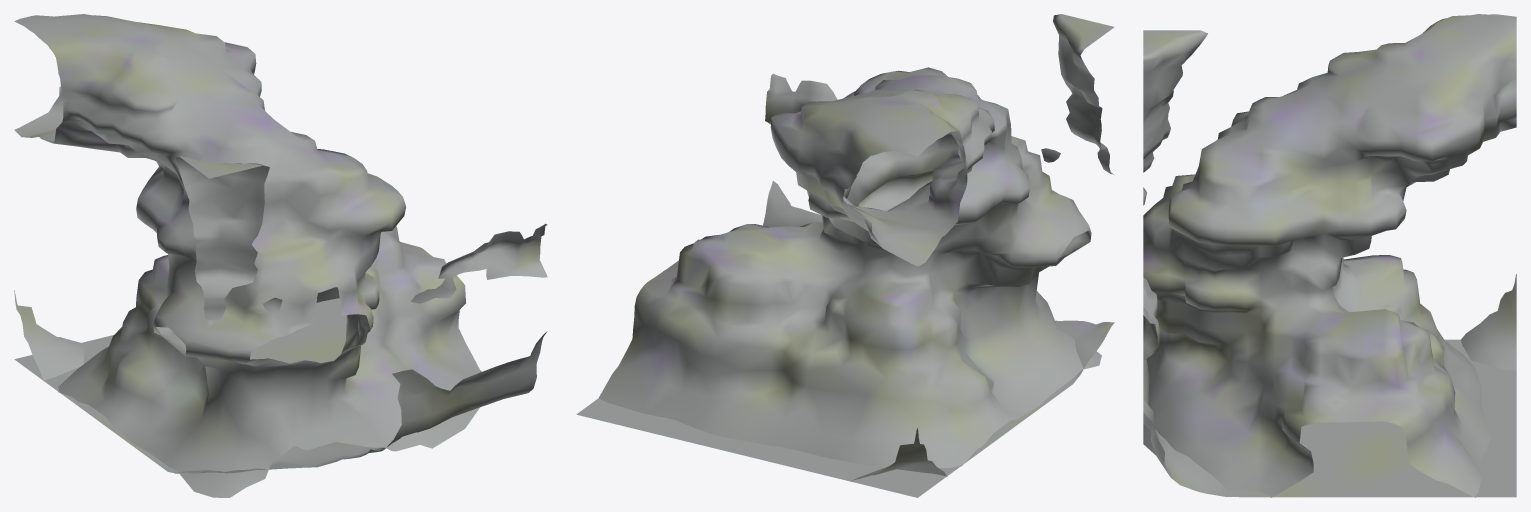
The picture shows the model from 3 angles, left to right: view 1: azimuth 30°, elevation 25°; view 2: azimuth 150°, elevation 25°; view 3: azimuth 270°, elevation 25°; orthographic projection. The views are drawn at different scales.
Visible parts, largest first — view 1: G:\FFXIV-MapTools\exports\y6f2\bg\ex5\02_ykt_y6\fld\y6f2\bgp (×4); view 2: G:\FFXIV-MapTools\exports\y6f2\bg\ex5\02_ykt_y6\fld\y6f2\bgp (×4); view 3: G:\FFXIV-MapTools\exports\y6f2\bg\ex5\02_ykt_y6\fld\y6f2\bgp (×4).
Part boxes in pixels (left/top/right/bottom): G:\FFXIV-MapTools\exports\y6f2\bg\ex5\02_ykt_y6\fld\y6f2\bgp (×4): left=14, top=14, right=547, bottom=497; G:\FFXIV-MapTools\exports\y6f2\bg\ex5\02_ykt_y6\fld\y6f2\bgp (×4): left=576, top=14, right=1114, bottom=497; G:\FFXIV-MapTools\exports\y6f2\bg\ex5\02_ykt_y6\fld\y6f2\bgp (×4): left=1143, top=14, right=1516, bottom=497.
Bounding box in the file's own units: 128 × 124 × 128.
